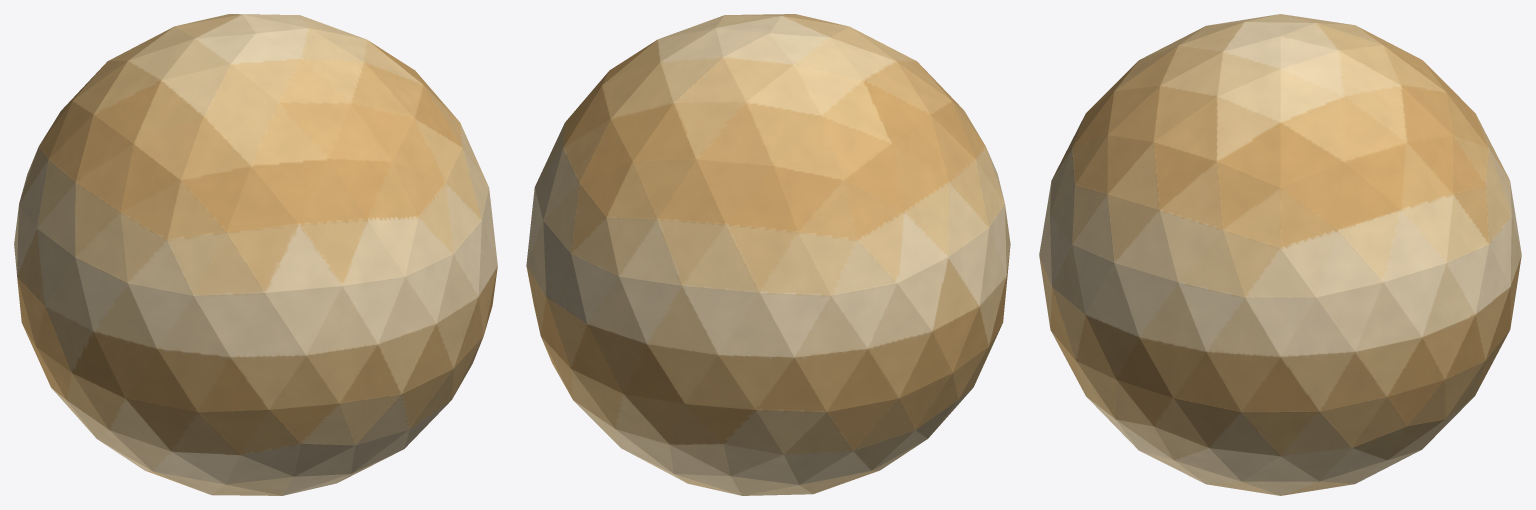
The model's file is venus.glb.
3 views of the same model, side by side, from view 1: azimuth 30°, elevation 25°; view 2: azimuth 150°, elevation 25°; view 3: azimuth 270°, elevation 25° (orthographic).
Visible parts, largest first — view 1: Venus; view 2: Venus; view 3: Venus.
Boxes of the visible parts, x1,y1,x2,y2 form: Venus: [14, 14, 497, 495]; Venus: [526, 14, 1010, 495]; Venus: [1039, 14, 1521, 495].
Bounding box in the file's own units: 2 × 2 × 2.
Materials: 1 (1 with a texture image).
